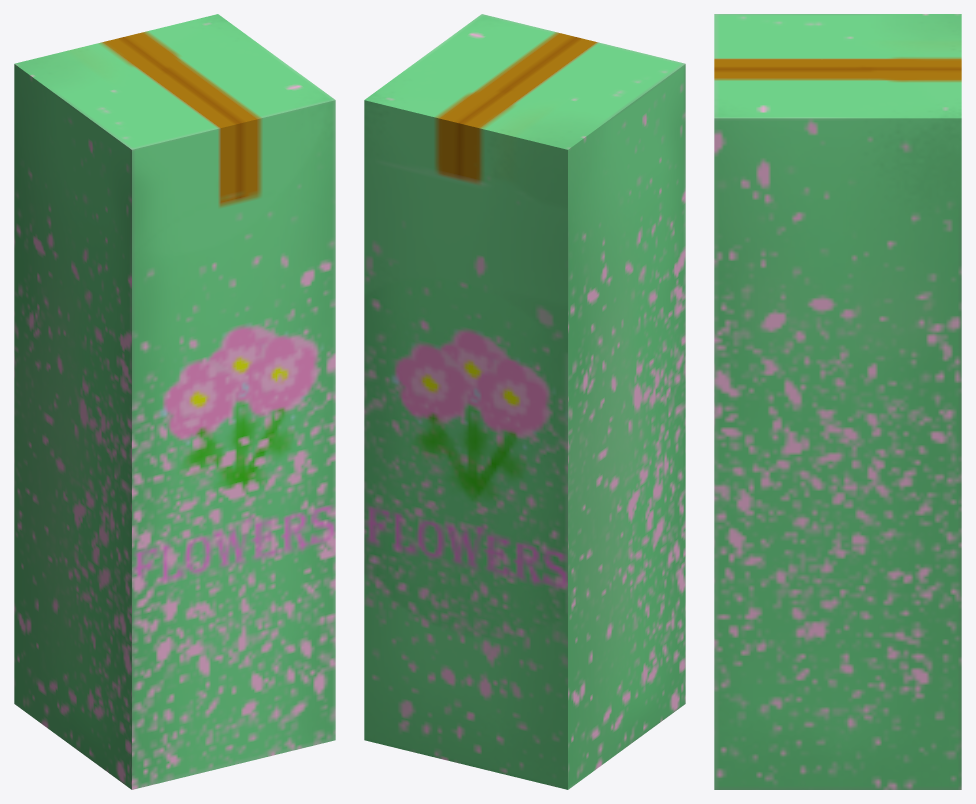
The model's file is tate3masu.fbx.
The picture shows the model from 3 angles, left to right: view 1: azimuth 30°, elevation 25°; view 2: azimuth 150°, elevation 25°; view 3: azimuth 270°, elevation 25°; orthographic projection. The views are drawn at different scales.
Visible parts, largest first — view 1: tate3; view 2: tate3; view 3: tate3.
Boxes of the visible parts, x1,y1,x2,y2 form: tate3: [14, 14, 335, 789]; tate3: [364, 14, 685, 789]; tate3: [714, 14, 961, 789].
Size of the model in its own units: 1 by 3 by 1.
Materials: 1 (1 with a texture image).
